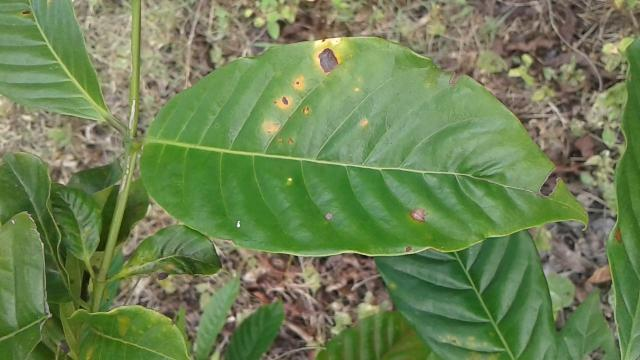rust_level_2: (144, 38, 585, 258)
